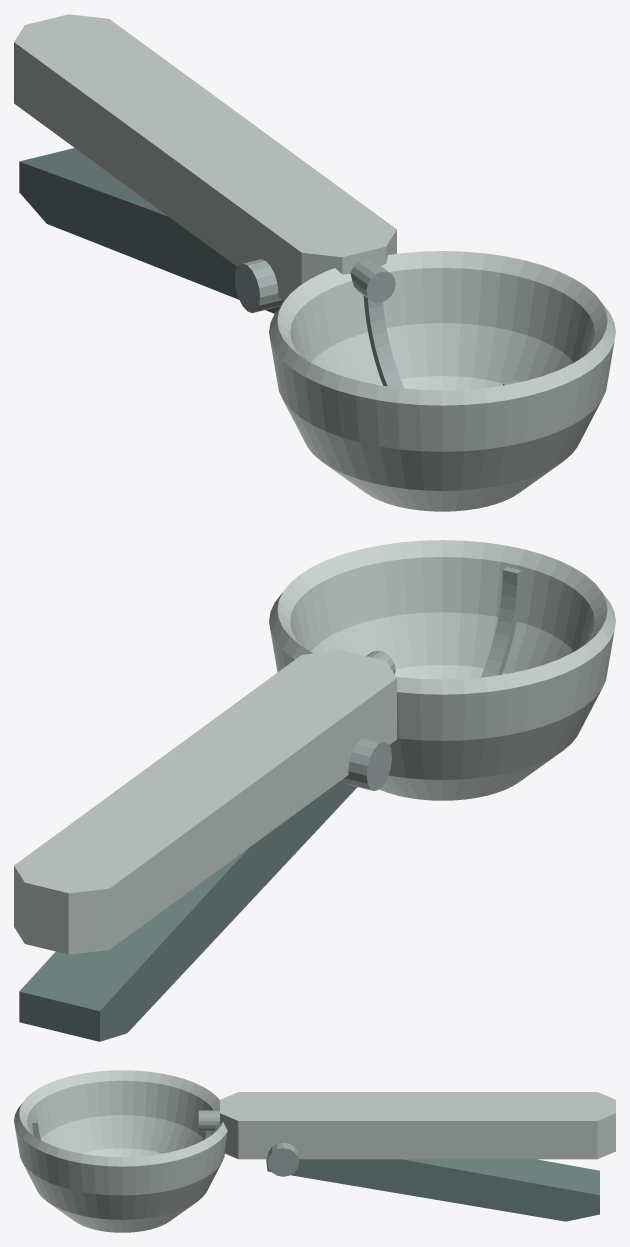
3 views of the same model, one above another, from view 1: azimuth 30°, elevation 25°; view 2: azimuth 150°, elevation 25°; view 3: azimuth 270°, elevation 25° (orthographic). The views are drawn at different scales.
Visible parts, largest first — view 1: WholeOpenHemisphereBowlAndRim, WholeLongUpperGrip, WholeLoweredSqueezeLever, WholeTransverseLeverPivot, WholeThickInnerSweepArc, WholeRearSweepSpindle; view 2: WholeOpenHemisphereBowlAndRim, WholeLongUpperGrip, WholeLoweredSqueezeLever, WholeThickInnerSweepArc, WholeTransverseLeverPivot; view 3: WholeOpenHemisphereBowlAndRim, WholeLongUpperGrip, WholeLoweredSqueezeLever, WholeTransverseLeverPivot, WholeRearSweepSpindle.
Part boxes in pixels (x1,y1,x2,y2): WholeOpenHemisphereBowlAndRim: (269, 251, 615, 511); WholeLongUpperGrip: (14, 14, 396, 300); WholeLoweredSqueezeLever: (19, 148, 279, 313); WholeTransverseLeverPivot: (234, 259, 283, 312); WholeThickInnerSweepArc: (363, 296, 519, 388); WholeRearSweepSpindle: (350, 259, 395, 302); WholeOpenHemisphereBowlAndRim: (269, 540, 615, 800); WholeLongUpperGrip: (14, 650, 396, 954); WholeLoweredSqueezeLever: (19, 779, 357, 1041); WholeThickInnerSweepArc: (480, 567, 521, 677); WholeTransverseLeverPivot: (343, 737, 391, 790); WholeOpenHemisphereBowlAndRim: (14, 1070, 227, 1232); WholeLongUpperGrip: (220, 1092, 615, 1159); WholeLoweredSqueezeLever: (266, 1159, 599, 1221); WholeTransverseLeverPivot: (267, 1142, 298, 1176); WholeRearSweepSpindle: (198, 1110, 219, 1131).
Bounding box in the file's own units: 0.082 × 0.049 × 0.228.
